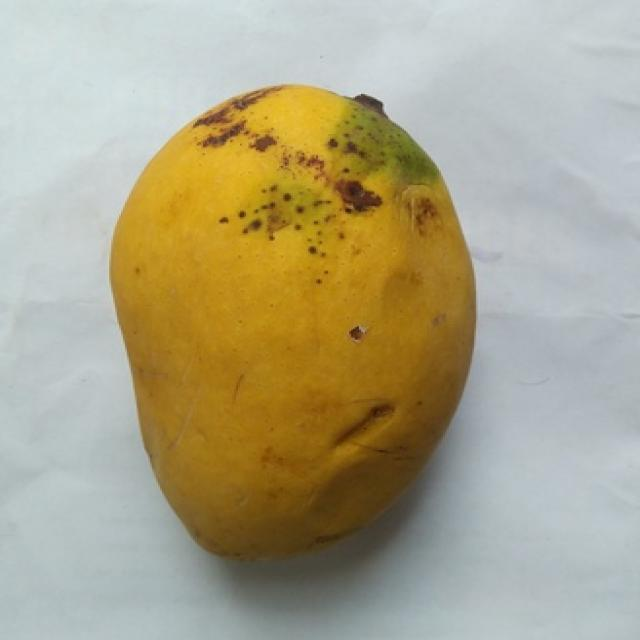Mango: (109, 85, 470, 557)
